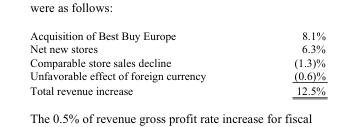table: (29, 29, 324, 96)
table column: (29, 29, 249, 96), (249, 29, 324, 96)
table row: (29, 68, 324, 82), (29, 82, 324, 96), (29, 29, 324, 42), (29, 42, 324, 55), (29, 55, 324, 68)
